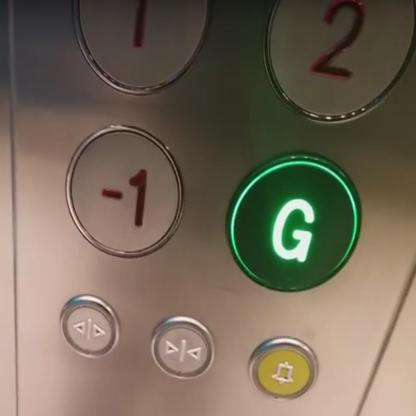-1: (66, 123, 186, 259)
2: (262, 2, 416, 124)
G: (226, 152, 363, 292)
alarm: (247, 334, 317, 398)
close: (148, 315, 216, 379)
open: (60, 294, 120, 356)
